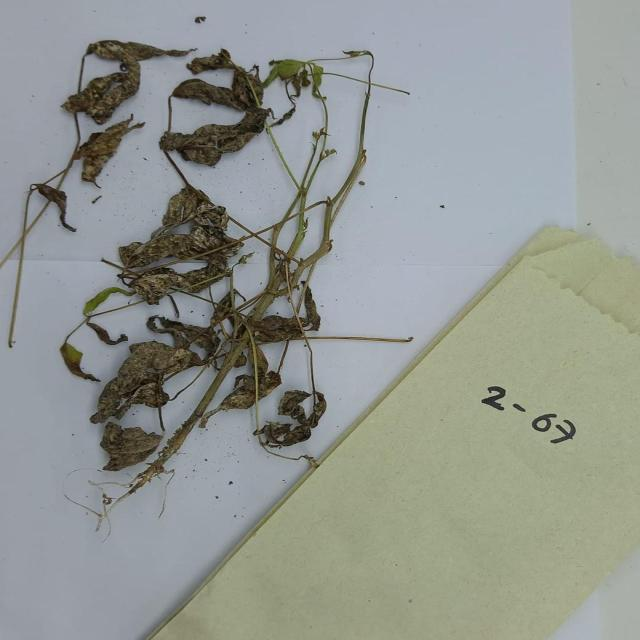Root: (62, 471, 178, 527), (141, 454, 176, 489)
Stem: (279, 157, 346, 306), (11, 224, 39, 351), (307, 84, 343, 171), (359, 62, 381, 181), (208, 352, 230, 438)
healty_leaves: (80, 286, 136, 313)
rooten_leaf: (82, 344, 200, 420), (160, 108, 273, 165), (51, 59, 150, 123), (71, 121, 147, 188), (164, 181, 235, 243), (143, 311, 229, 358), (121, 270, 238, 304), (114, 237, 242, 266), (172, 72, 267, 110), (264, 391, 326, 447), (32, 180, 80, 237), (100, 422, 158, 468), (256, 314, 340, 344), (76, 39, 188, 61), (230, 368, 281, 409), (59, 343, 102, 382), (182, 48, 242, 72), (86, 323, 130, 346)
